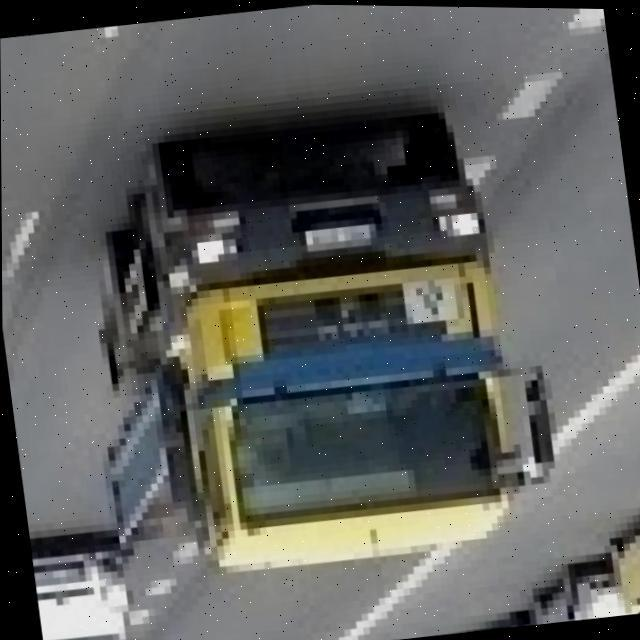truck: (52, 90, 572, 640)
